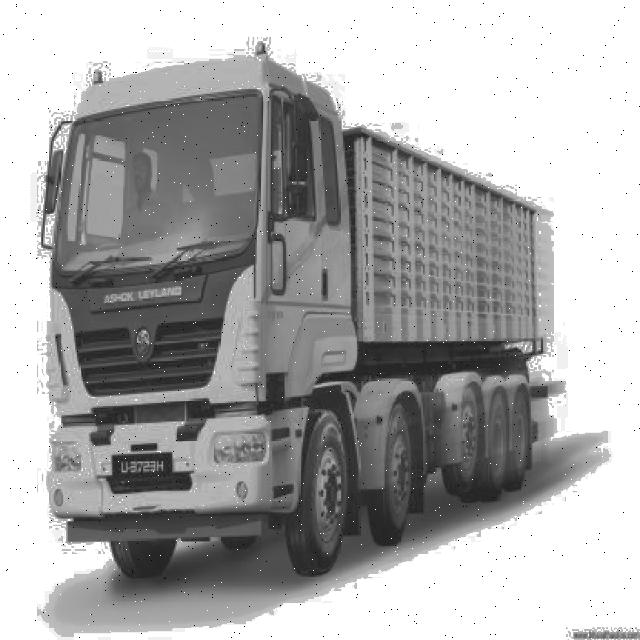HCV: (32, 117, 532, 525)
